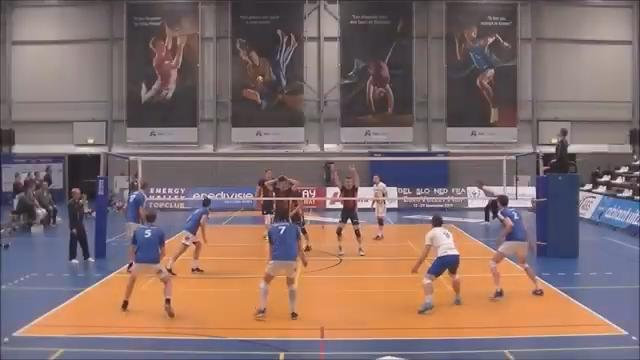ricezione: (250, 205, 307, 326)
